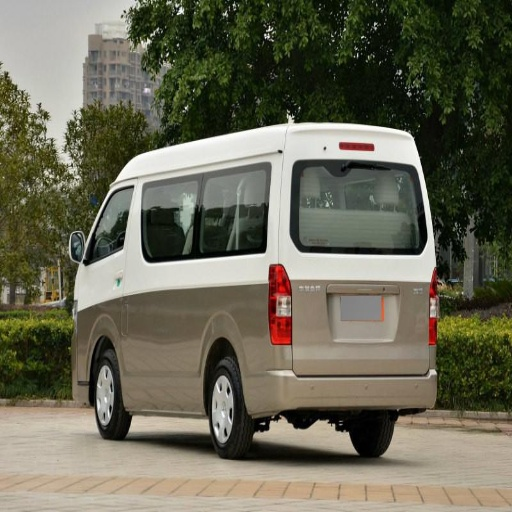back_bumper: (261, 361, 436, 407)
back_left_light: (268, 267, 289, 342)
back_right_door: (152, 161, 265, 250)
trunk: (119, 255, 433, 408)
